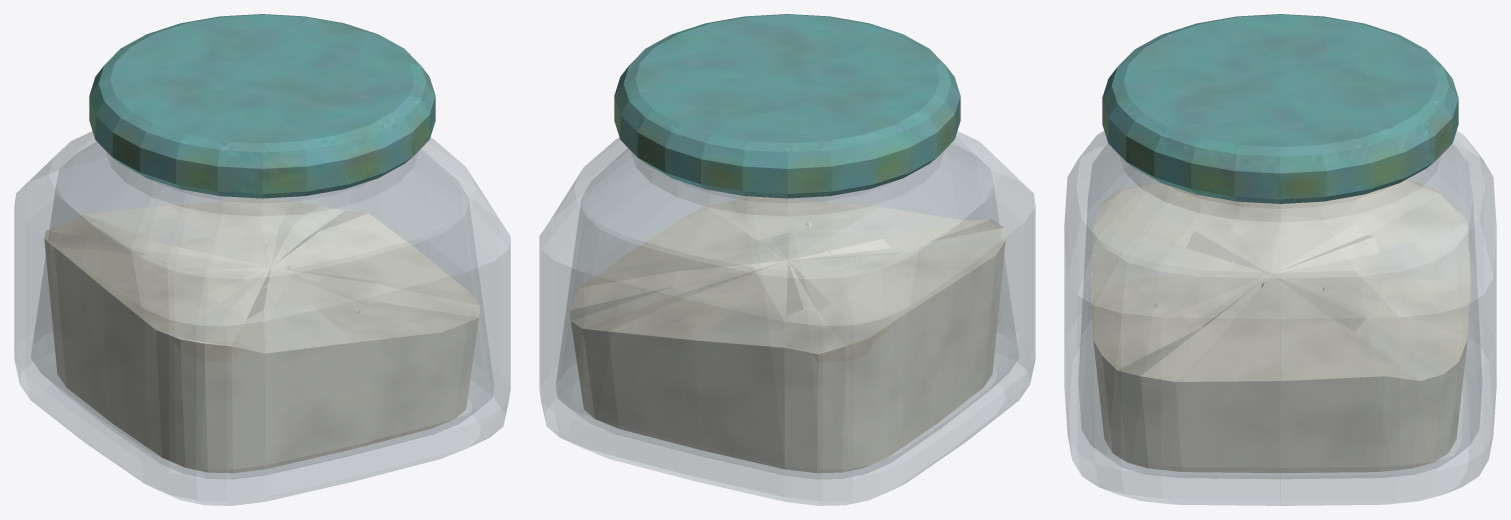
Rendered from K18_glass_jars_v2.glb.
3 renders of one model, left to right at view 1: azimuth 30°, elevation 25°; view 2: azimuth 150°, elevation 25°; view 3: azimuth 270°, elevation 25°, orthographic. The views are drawn at different scales.
Parts seen in each view (by area): view 1: Square pigment jar; view 2: Square pigment jar; view 3: Square pigment jar.
Part boxes in pixels (x1,y1,x2,y2): Square pigment jar: (14, 14, 510, 505); Square pigment jar: (539, 14, 1035, 505); Square pigment jar: (1064, 14, 1496, 505).
Size of the model in its own units: 0.25 by 0.2198 by 0.25.
Materials: 5 (4 with a texture image).
